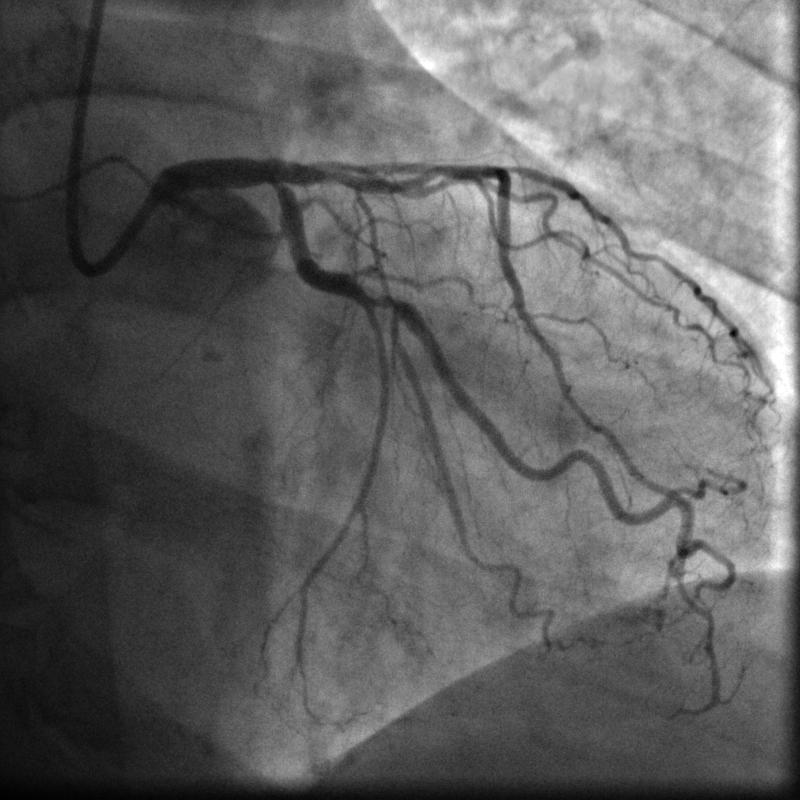Stenosis: (366, 289, 400, 313)
